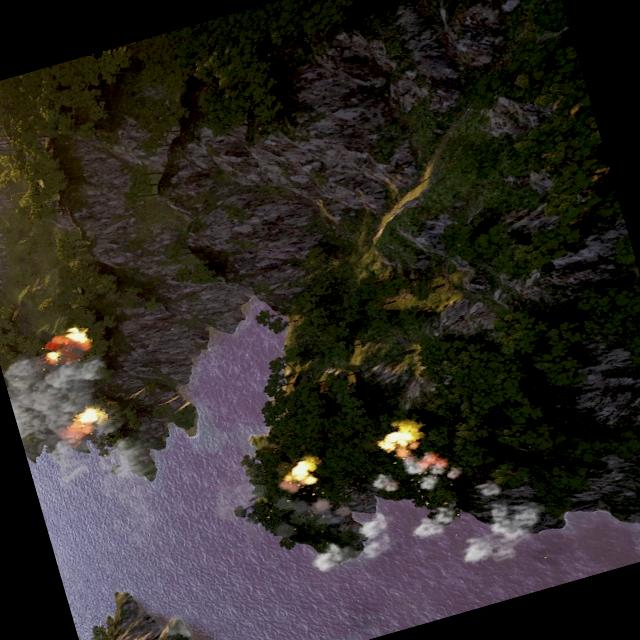fire: (374, 422, 420, 458), (62, 406, 105, 440), (284, 455, 320, 487), (63, 324, 92, 351), (77, 406, 101, 424), (43, 348, 60, 363)
smoke: (0, 327, 149, 497), (448, 491, 554, 572), (300, 510, 402, 578), (364, 444, 458, 504), (403, 499, 461, 540), (475, 478, 501, 498)
